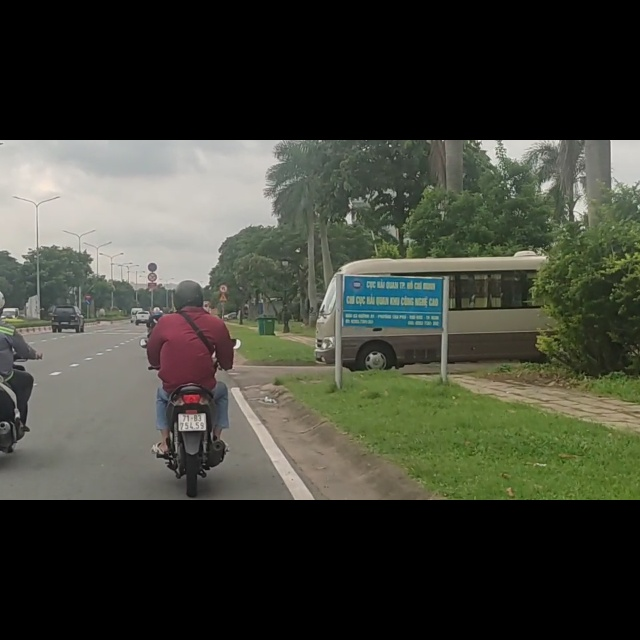bien_nguy_hiem: (147, 218, 157, 235), (218, 256, 228, 271), (148, 236, 157, 252), (218, 273, 227, 288), (85, 273, 91, 283), (85, 284, 91, 294)
